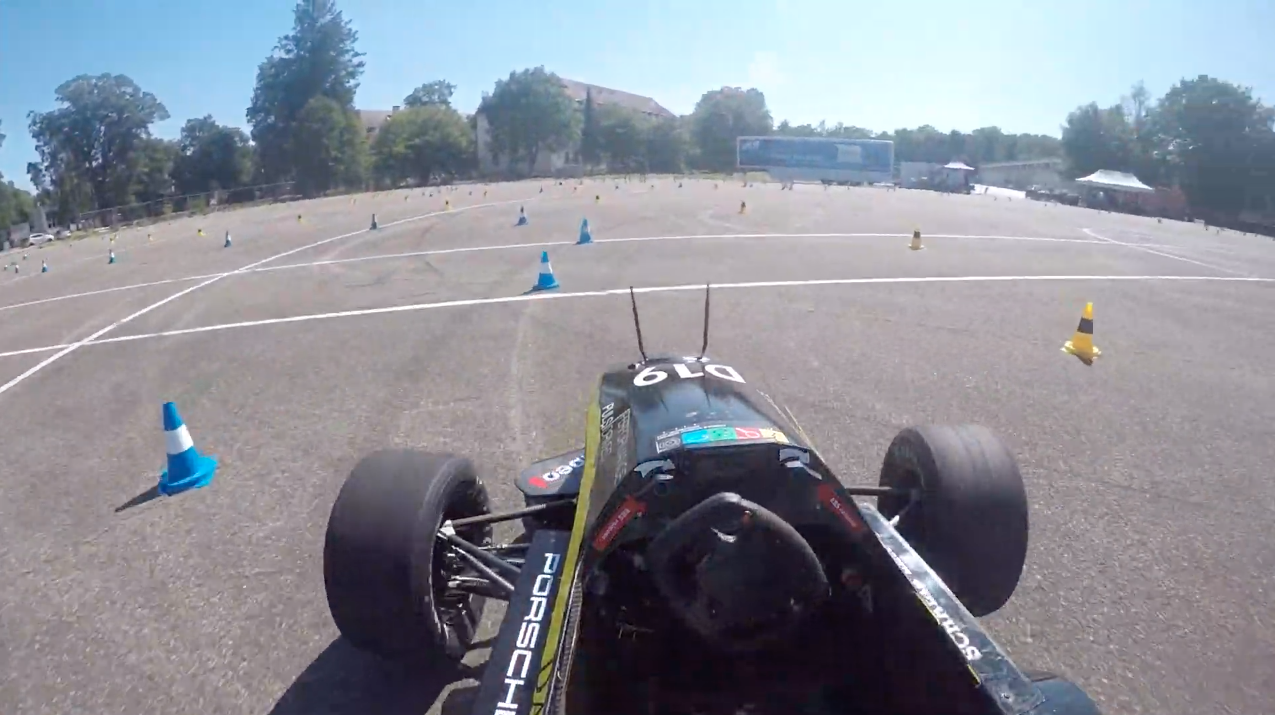lcone: (151, 399, 222, 499), (531, 248, 564, 293), (574, 215, 598, 247)
rcone: (1055, 296, 1105, 363), (907, 223, 928, 252)
